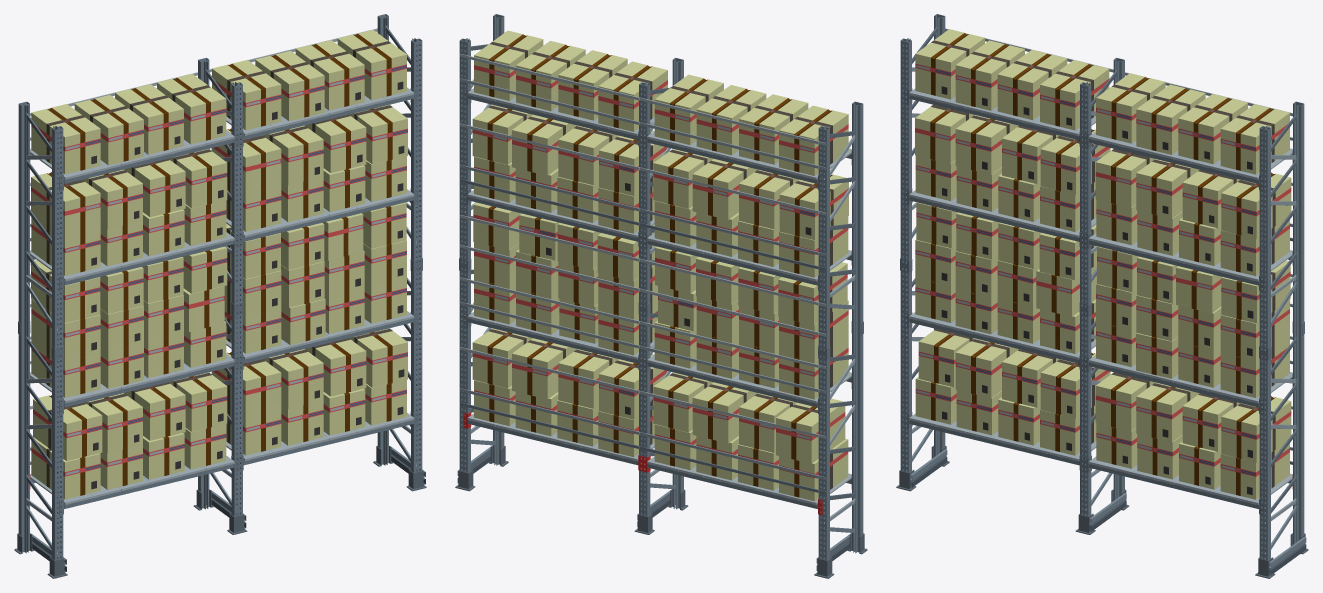
The model's file is SM_ShelfBoxesx3_White_D.fbx.
3 views of the same model, side by side, from view 1: azimuth 30°, elevation 25°; view 2: azimuth 150°, elevation 25°; view 3: azimuth 330°, elevation 25° (orthographic).
Parts seen in each view (by area): view 1: SM_ShelfBoxesx3_White_D; view 2: SM_ShelfBoxesx3_White_D; view 3: SM_ShelfBoxesx3_White_D.
Part boxes in pixels (box(x1,y1,x2,y2)): SM_ShelfBoxesx3_White_D: box(14, 14, 426, 578); SM_ShelfBoxesx3_White_D: box(455, 14, 867, 578); SM_ShelfBoxesx3_White_D: box(896, 14, 1308, 578).
Size of the model in its own units: 647 by 739 by 118.
